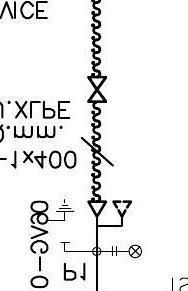22_gs: (47, 198, 75, 244)
22_ll: (111, 244, 143, 259)
terminator_splicing_kits: (86, 75, 108, 103)
terminator_w_future: (86, 199, 133, 228)
